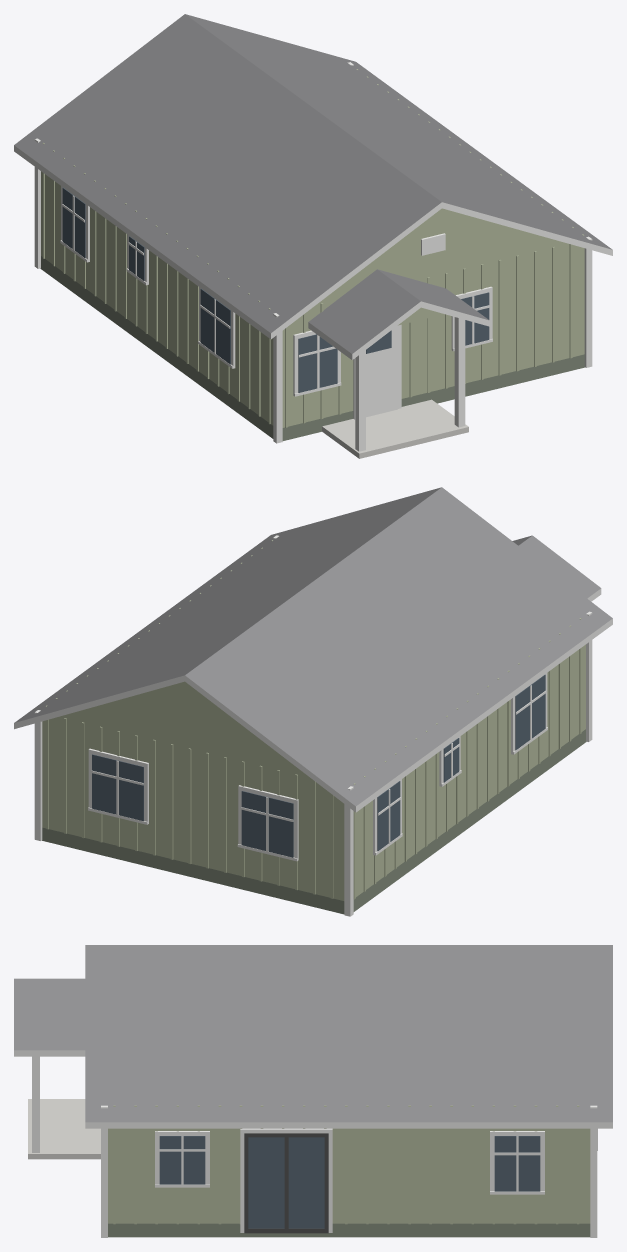
Rendered from walnut-sage.glb.
3 views of the same model, one above another, from view 1: azimuth 30°, elevation 25°; view 2: azimuth 150°, elevation 25°; view 3: azimuth 270°, elevation 25° (orthographic). The views are drawn at different scales.
Parts seen in each view (by area): view 1: The Walnut (sage); view 2: The Walnut (sage); view 3: The Walnut (sage).
Part boxes in pixels (x1=…): The Walnut (sage): x1=14, y1=14, x2=612, y2=458; The Walnut (sage): x1=14, y1=487, x2=612, y2=916; The Walnut (sage): x1=14, y1=945, x2=612, y2=1237.
Size of the model in its own units: 8.08 by 4.72 by 11.94.
